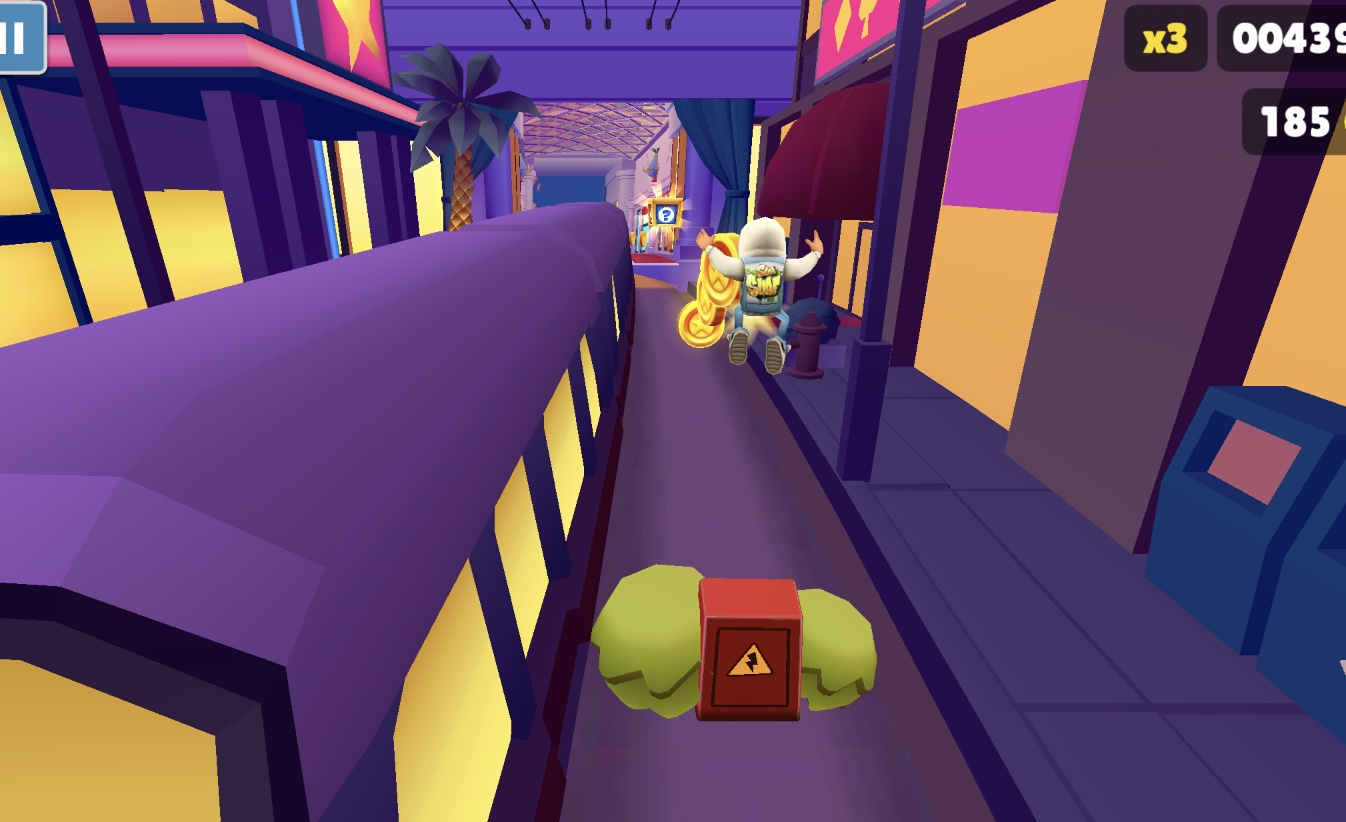bush: (590, 563, 879, 718)
small_obstacle: (696, 577, 804, 724)
train: (0, 202, 640, 822)
